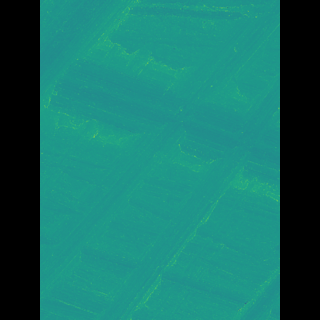Loch: (70, 0, 250, 300), (110, 71, 250, 320), (70, 0, 141, 92), (214, 257, 250, 320)
